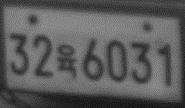0: (105, 39, 128, 82)
1: (156, 42, 174, 86)
2: (31, 33, 55, 78)
3: (130, 41, 152, 84), (9, 32, 30, 77)
6: (82, 38, 104, 81)
육: (55, 43, 79, 80)
